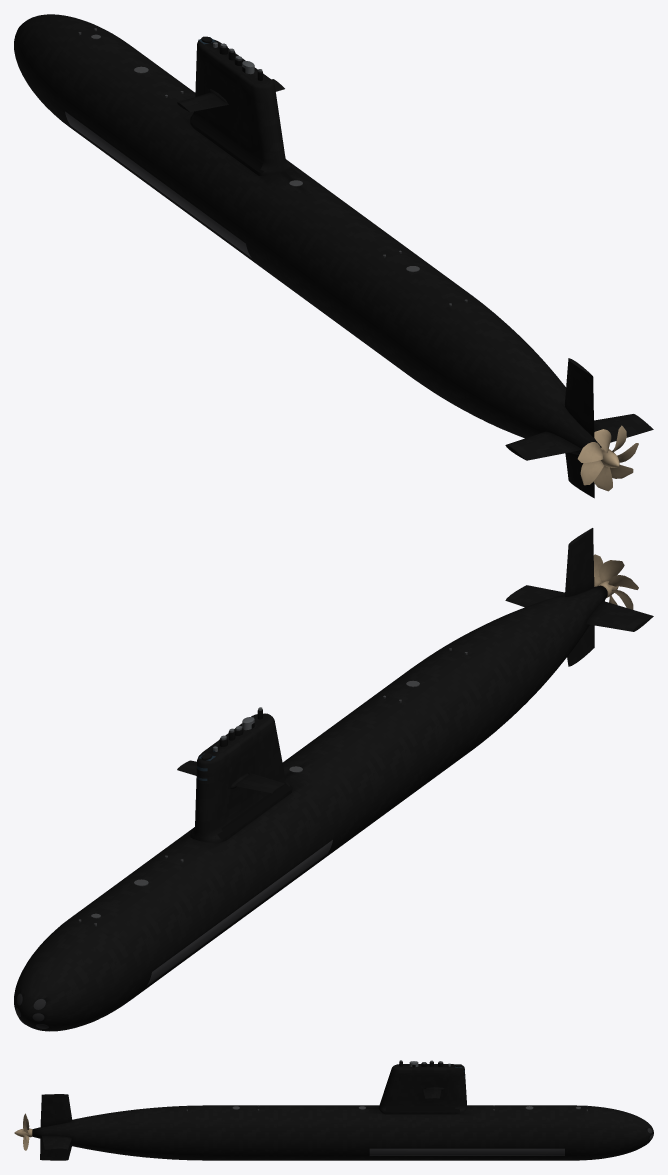
The model's file is sx1-leve.glb.
3 views of the same model, one above another, from view 1: azimuth 30°, elevation 25°; view 2: azimuth 150°, elevation 25°; view 3: azimuth 270°, elevation 25° (orthographic). The views are drawn at different scales.
Visible parts, largest first — view 1: SX1_Casco, SX1_Vela, SX1_Helice_Malha, SX1_Casco_SonarFlanco, SX1_LemePopa_Sup_Malha, SX1_LemePopa_BB_Malha, SX1_LemePopa_BE_Malha; view 2: SX1_Casco, SX1_Vela, SX1_Casco_SonarFlanco, SX1_LemePopa_Sup_Malha, SX1_Helice_Malha, SX1_LemePopa_BB_Malha, SX1_LemePopa_BE_Malha; view 3: SX1_Casco, SX1_Vela, SX1_Casco_SonarFlanco, SX1_LemePopa_Sup_Malha, SX1_LemePopa_BE_Malha, SX1_LemePopa_Inf_Malha, SX1_Helice_Malha, SX1_LemeVela_BE_Malha.
Part boxes in pixels (left/top/right/bottom): SX1_Casco: left=14, top=14, right=601, bottom=455; SX1_Vela: left=190, top=39, right=292, bottom=175; SX1_Helice_Malha: left=577, top=425, right=638, bottom=491; SX1_Casco_SonarFlanco: left=65, top=111, right=251, bottom=257; SX1_LemePopa_Sup_Malha: left=564, top=358, right=594, bottom=437; SX1_LemePopa_BB_Malha: left=505, top=431, right=581, bottom=460; SX1_LemePopa_BE_Malha: left=594, top=414, right=653, bottom=442; SX1_Casco: left=14, top=585, right=607, bottom=1031; SX1_Vela: left=190, top=713, right=292, bottom=842; SX1_Casco_SonarFlanco: left=147, top=840, right=332, bottom=985; SX1_LemePopa_Sup_Malha: left=565, top=528, right=594, bottom=596; SX1_Helice_Malha: left=593, top=554, right=638, bottom=609; SX1_LemePopa_BB_Malha: left=586, top=601, right=653, bottom=631; SX1_LemePopa_BE_Malha: left=505, top=585, right=564, bottom=607; SX1_Casco: left=32, top=1105, right=653, bottom=1160; SX1_Vela: left=378, top=1064, right=467, bottom=1114; SX1_Casco_SonarFlanco: left=369, top=1148, right=564, bottom=1155; SX1_LemePopa_Sup_Malha: left=40, top=1094, right=72, bottom=1127; SX1_LemePopa_BE_Malha: left=42, top=1135, right=71, bottom=1150; SX1_LemePopa_Inf_Malha: left=40, top=1139, right=71, bottom=1160; SX1_Helice_Malha: left=14, top=1113, right=32, bottom=1150; SX1_LemeVela_BE_Malha: left=423, top=1088, right=441, bottom=1099.
Size of the model in its own units: 8.92 by 12.33 by 72.
12 materials, 2 textured.
